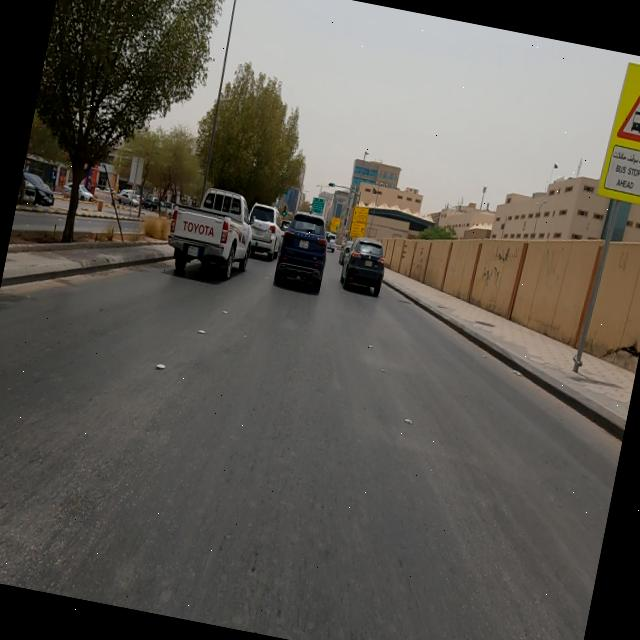Graffiti: (478, 243, 519, 292), (539, 248, 566, 296), (616, 253, 631, 276)
